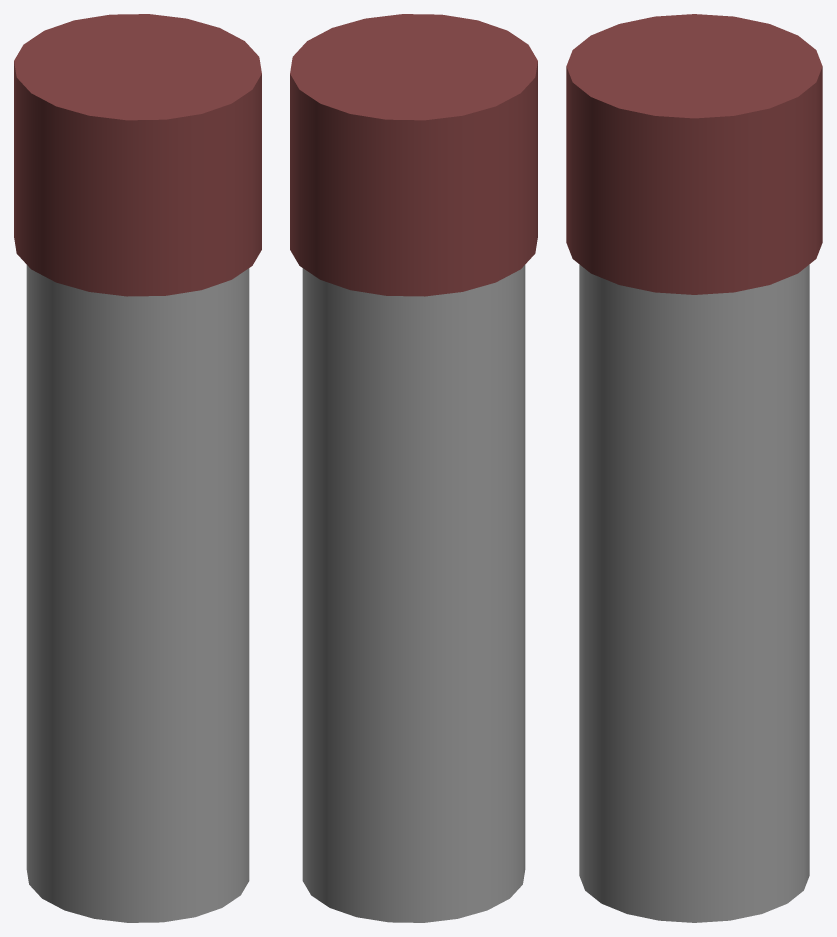
Rendered from PapirosFBX.fbx.
The picture shows the model from 3 angles, left to right: view 1: azimuth 30°, elevation 25°; view 2: azimuth 150°, elevation 25°; view 3: azimuth 270°, elevation 25°; orthographic projection.
Parts seen in each view (by area): view 1: pCylinder1; view 2: pCylinder1; view 3: pCylinder1.
Boxes of the visible parts, x1,y1,x2,y2 form: pCylinder1: [14, 14, 261, 922]; pCylinder1: [290, 14, 537, 922]; pCylinder1: [566, 14, 822, 922].
Size of the model in its own units: 0.5654 by 2.04 by 0.586.
